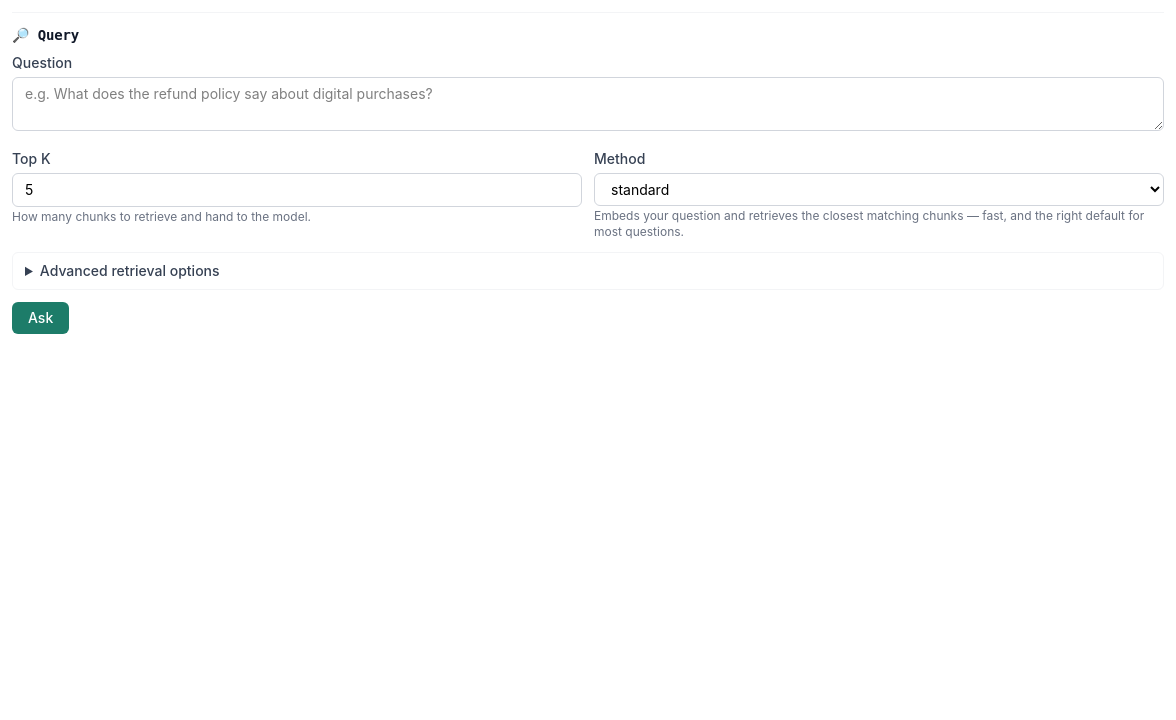
QueryPanel › resets the conversation thread on demand
Click the heading "Advanced retrieval options": (130, 270) [40,262,220,279]
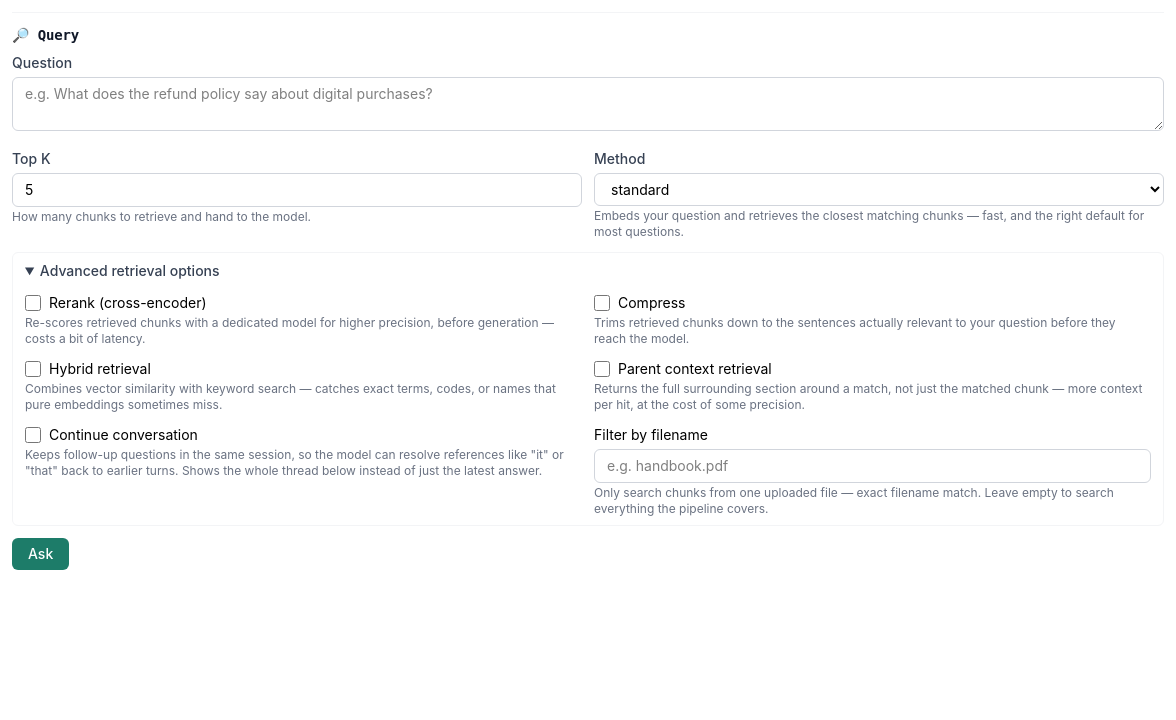
Click the checkbox labelled "Continue conversation": (33, 435) [25,427,41,443]
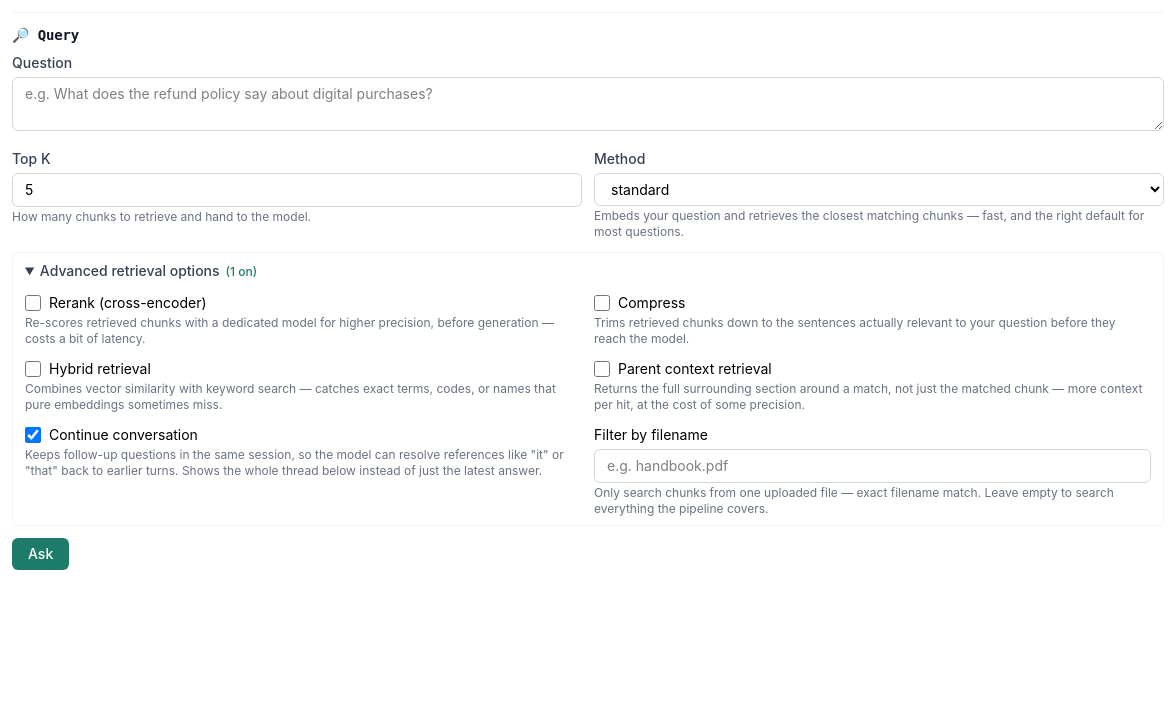
Replace the text in the text box labelled "Question" with "hi": (588, 104) [12,77,1164,131]
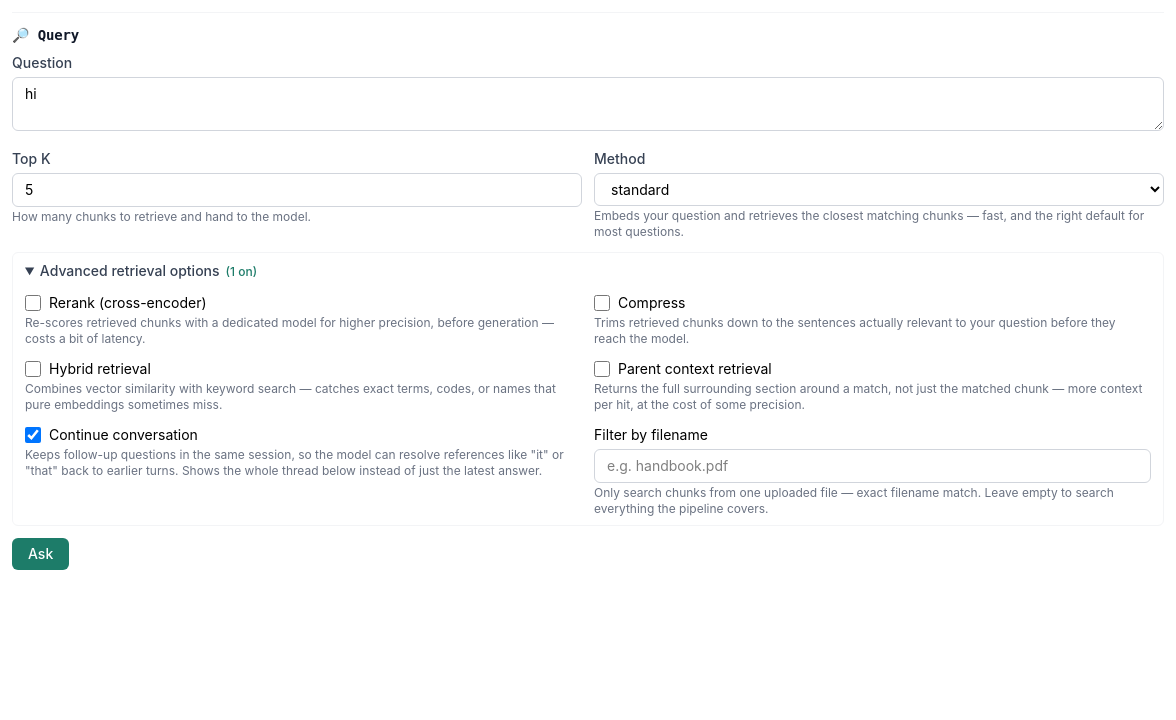
Click the button "Ask": (41, 554) [12,538,69,570]
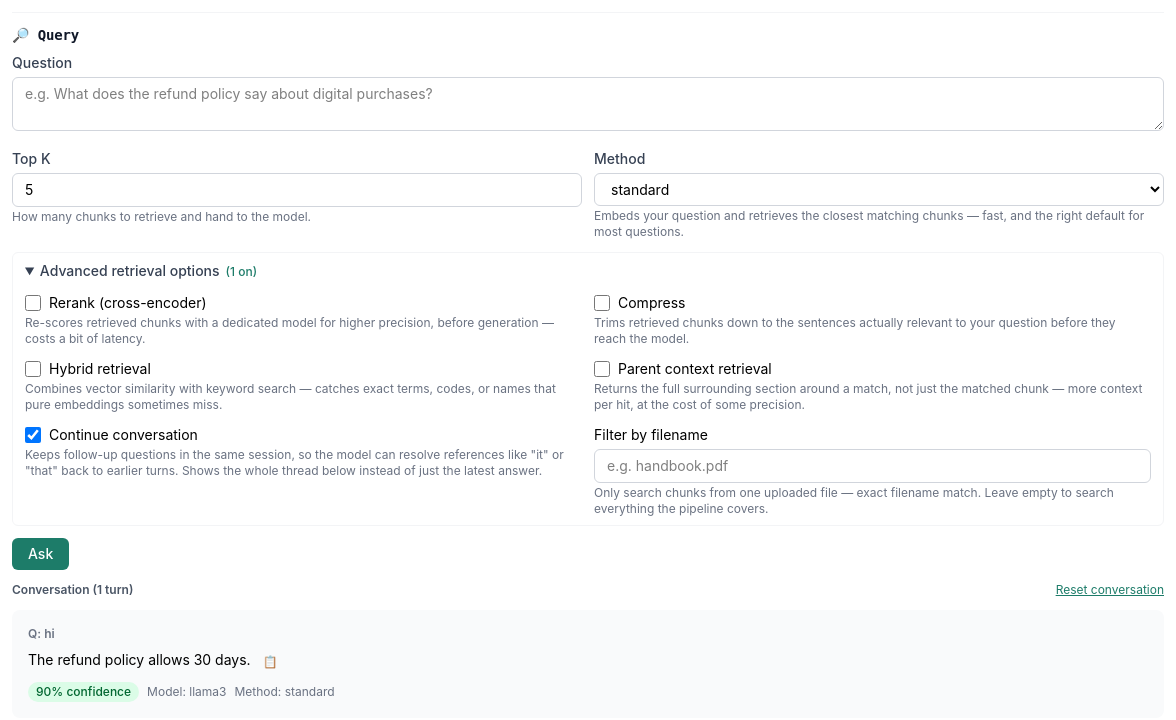
Check: the text "Conversation (1 turn)" is shown, box [12,582,133,598]
Click the button "Reset conversation": (1110, 590) [1056,582,1164,598]
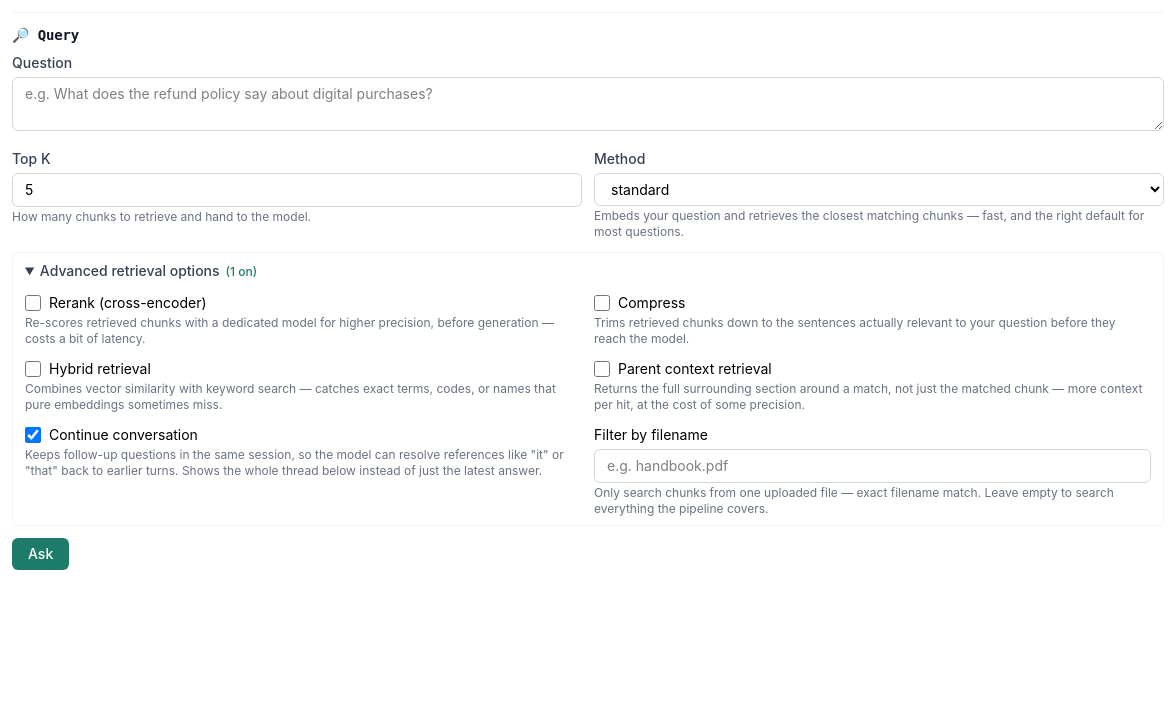
Check: the text "Conversation (" is gone
